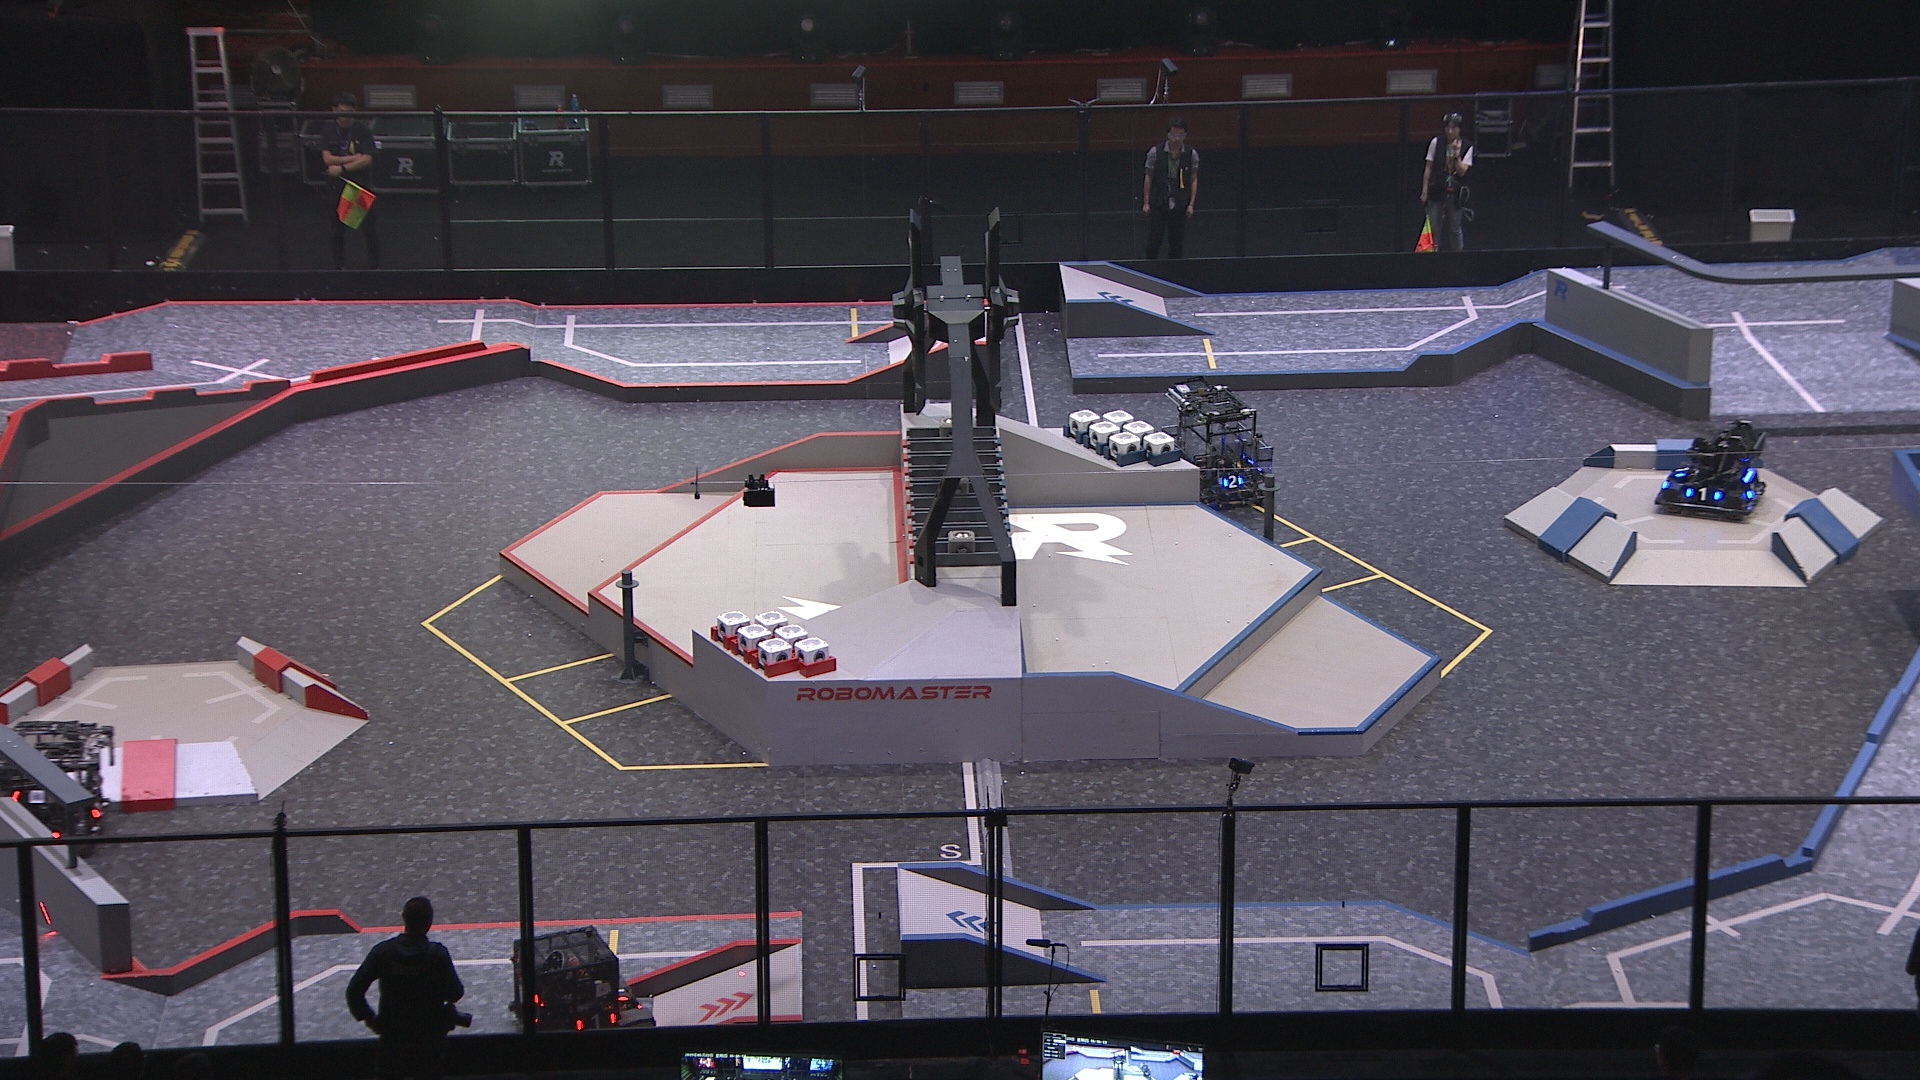armor: (571, 1011, 618, 1034), (1685, 485, 1722, 504), (1221, 475, 1245, 491), (611, 986, 629, 1005), (1673, 465, 1691, 480), (1746, 484, 1756, 500)
car: (506, 920, 659, 1054), (1156, 375, 1276, 512), (1654, 419, 1774, 524)
